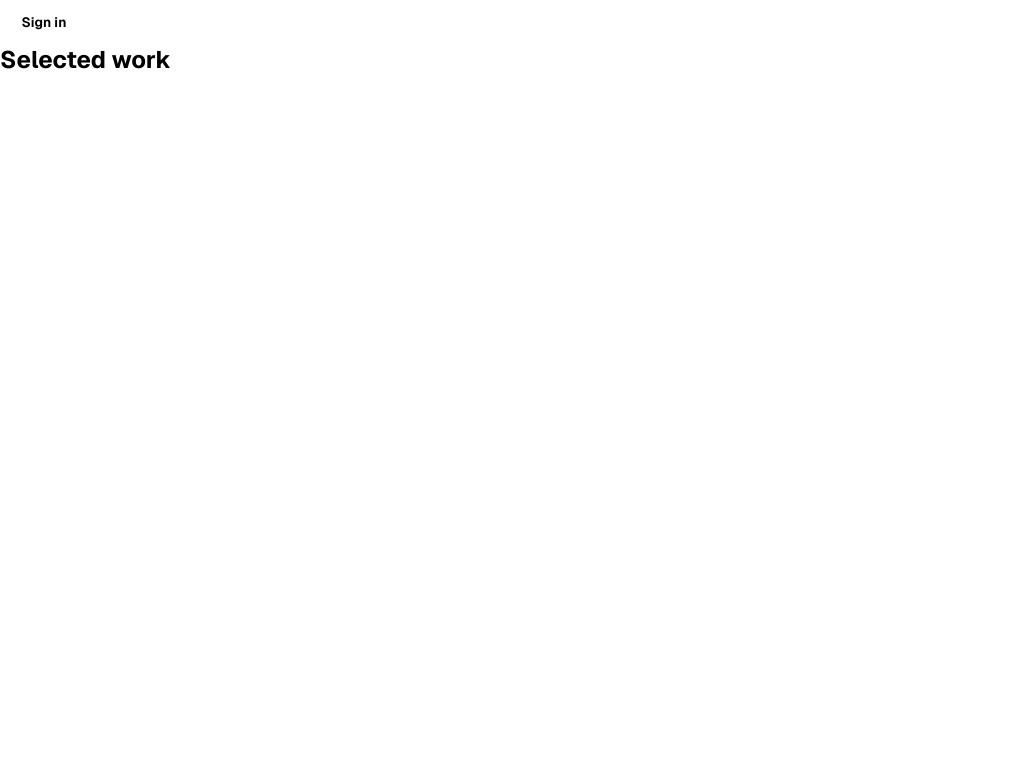
Test case: keeps the public entry available when refresh fails and shows an auth service error
The width and height of the screenshot is (1024, 768).
Click the button "Sign in": [44, 22] box x1=0 y1=0 x2=88 y2=44
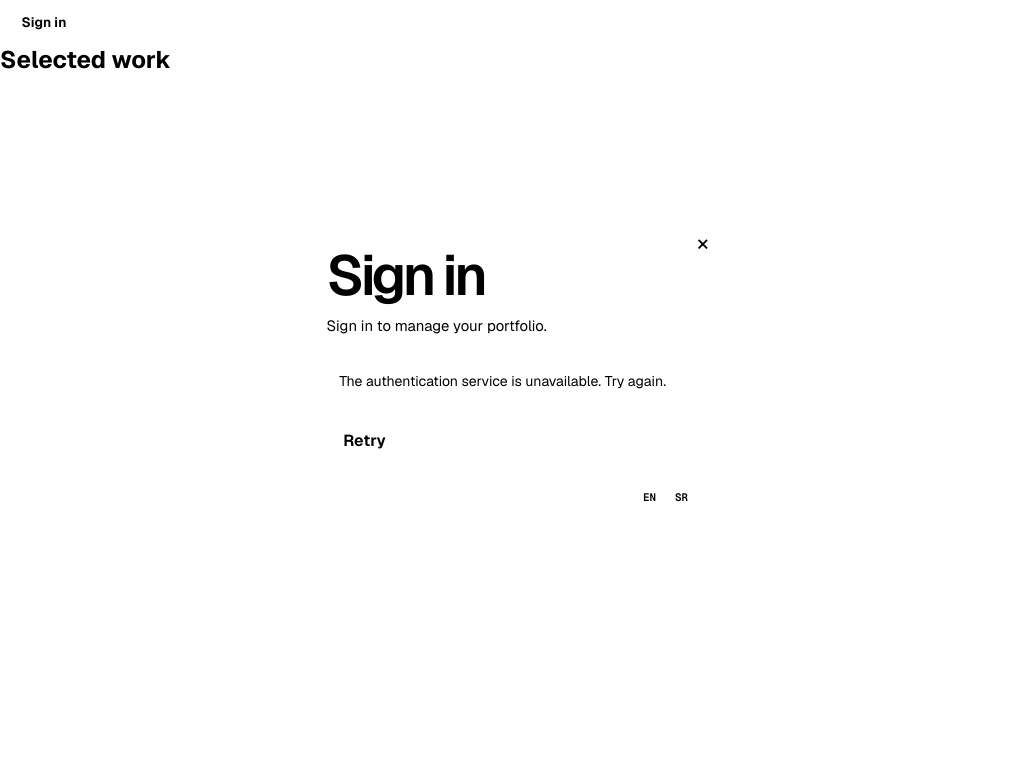
Expected: the message shows "authentication service is unavailable", x1=339 y1=372 x2=666 y2=390
